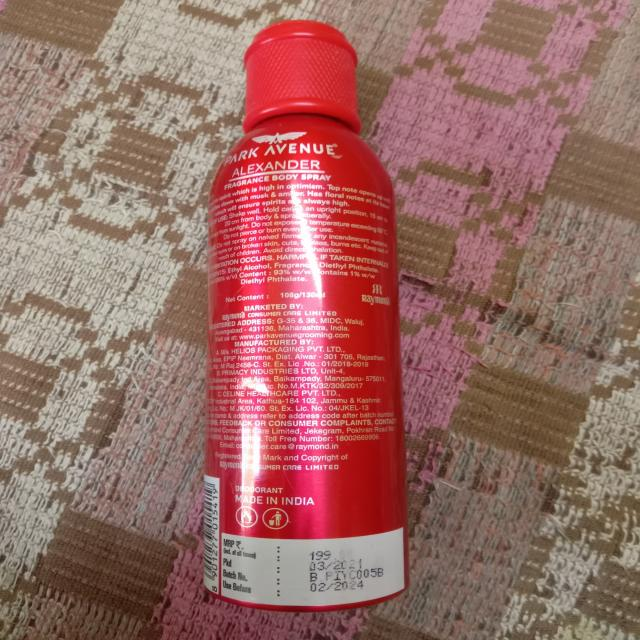deodorant: (197, 18, 425, 611)
